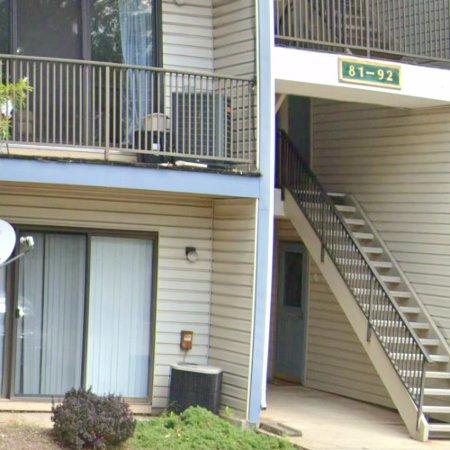stairs: (279, 134, 450, 441)
